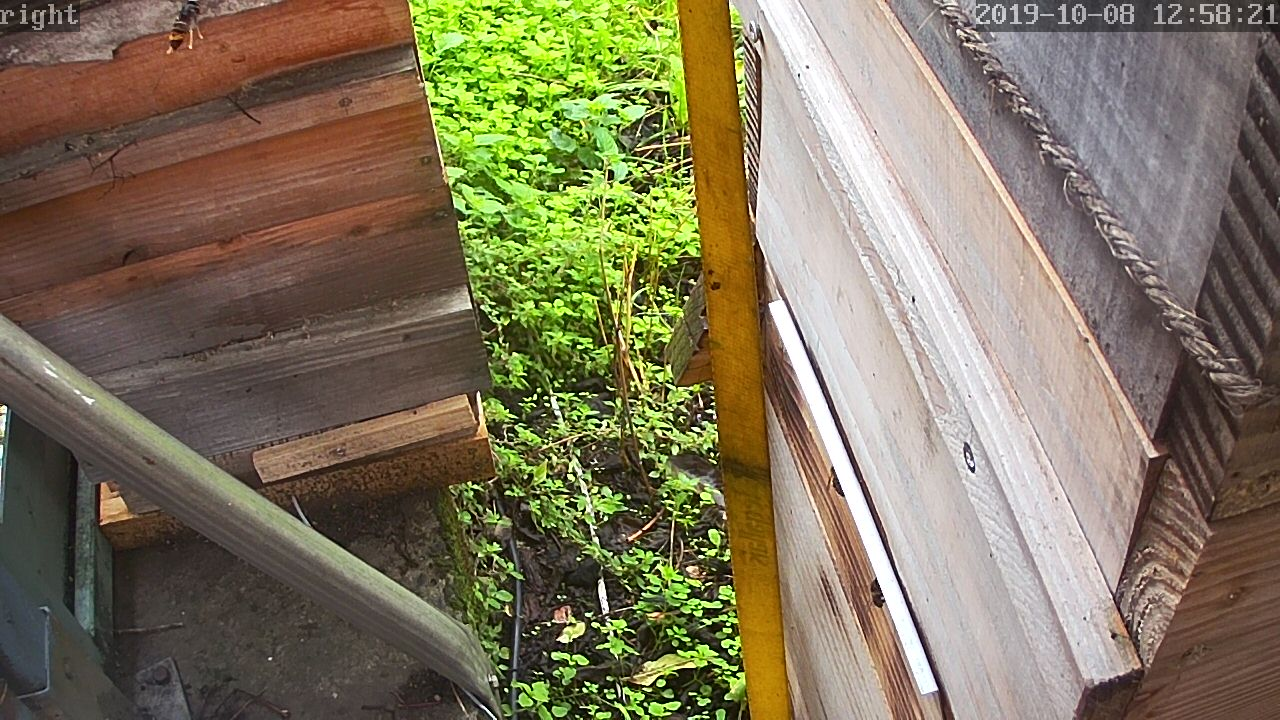bee: (824, 458, 853, 499), (866, 574, 891, 613)
hornet: (130, 1, 225, 53)
